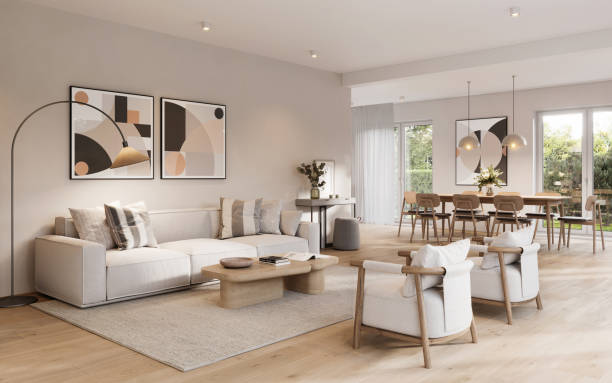chair: (347, 238, 477, 369), (469, 225, 545, 325)
dining table set: (396, 189, 606, 255)
floor lamp: (0, 98, 151, 310)
flower vase: (296, 160, 332, 199), (475, 165, 502, 196)
sofa: (31, 195, 322, 310)
table: (199, 251, 339, 308)
wall art: (66, 83, 157, 182), (159, 94, 229, 182), (452, 113, 508, 187)
